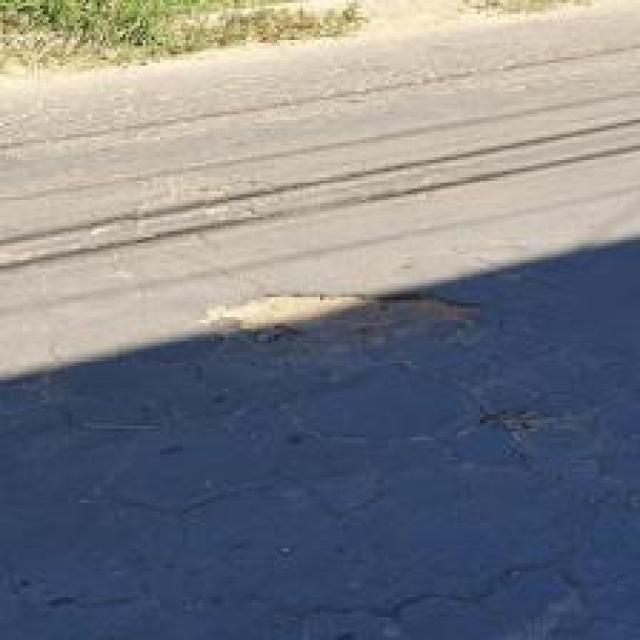BACHE: (206, 292, 474, 337)
PIEL DE COCODRILO: (0, 249, 639, 639), (5, 44, 638, 157), (112, 171, 302, 258)
